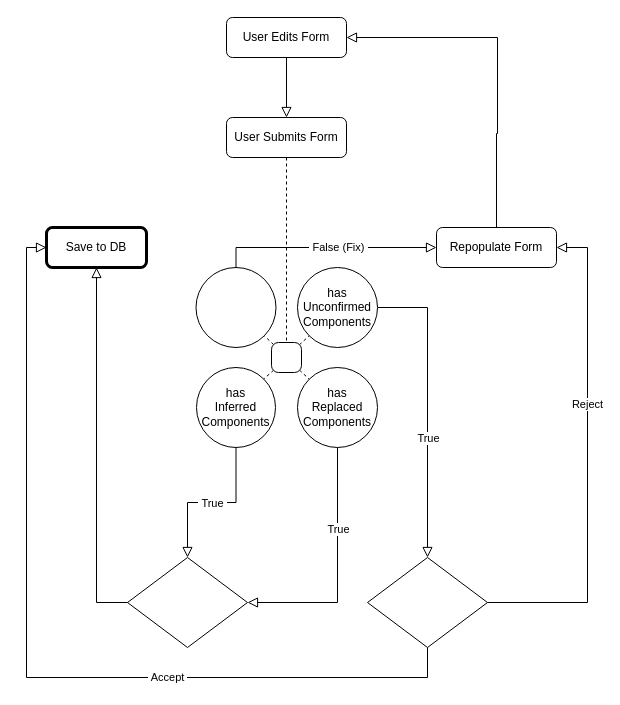
The diagram is 620 pixels wide and 705 high, and some of its shapes have lost their labels. Here are the shapes that lost their labels. From the top down, the centre of each, then its label:
(x=235, y=307): address Complete
(x=187, y=602): Select
(x=427, y=602): Confirm
